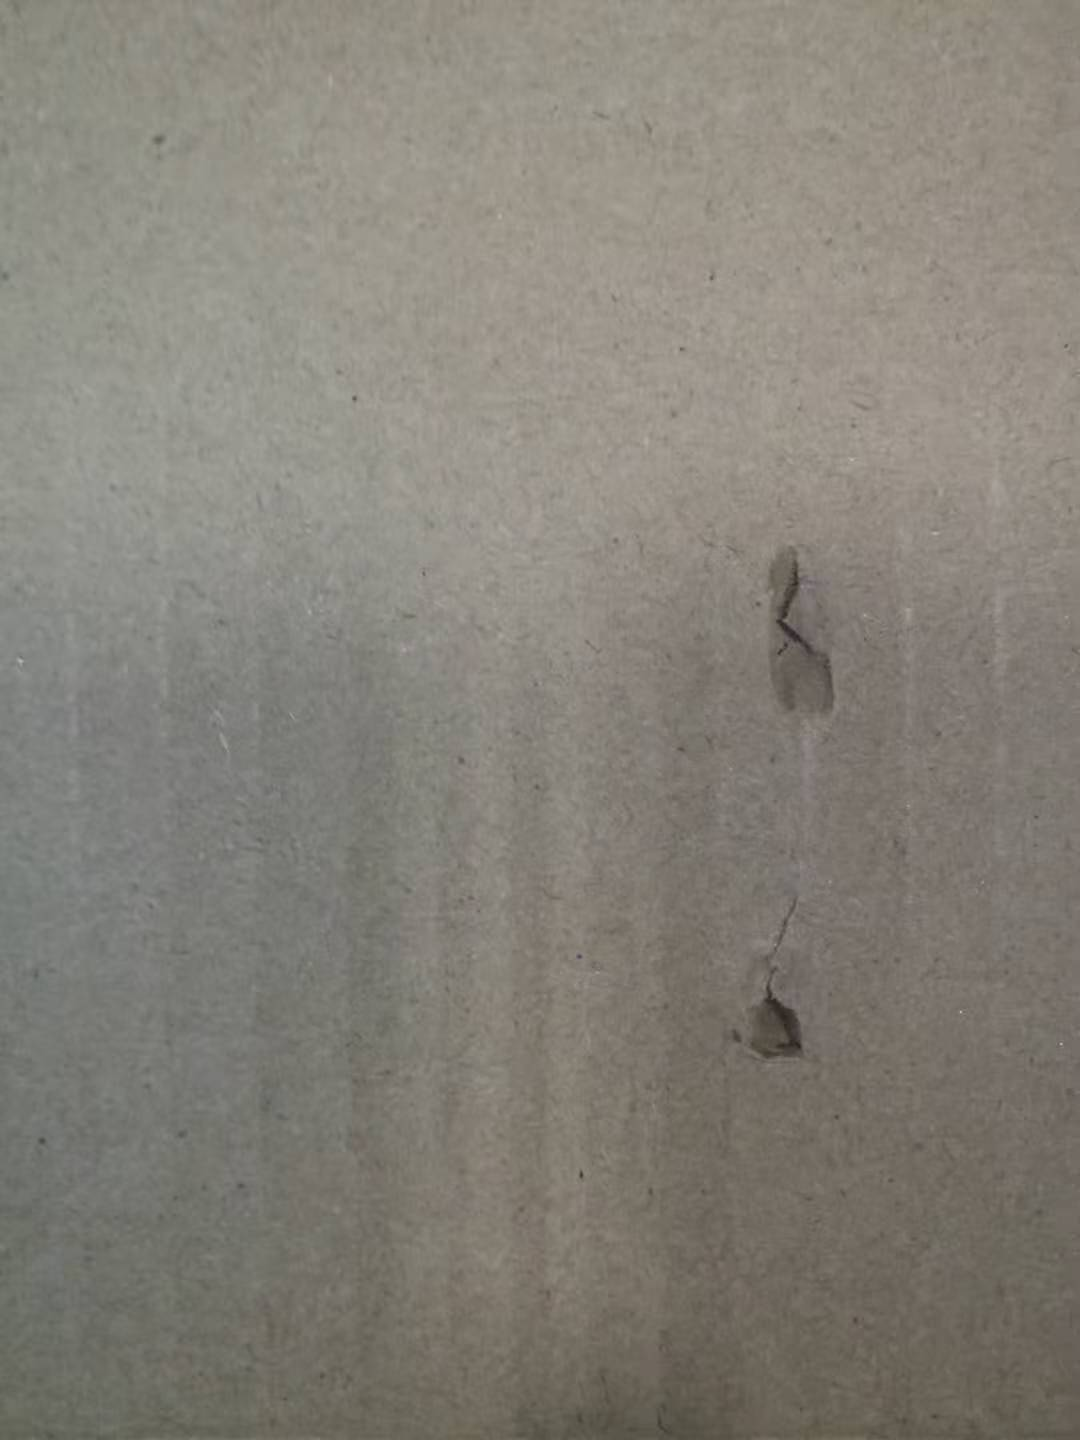defect: (694, 498, 905, 776), (686, 855, 843, 1101)
